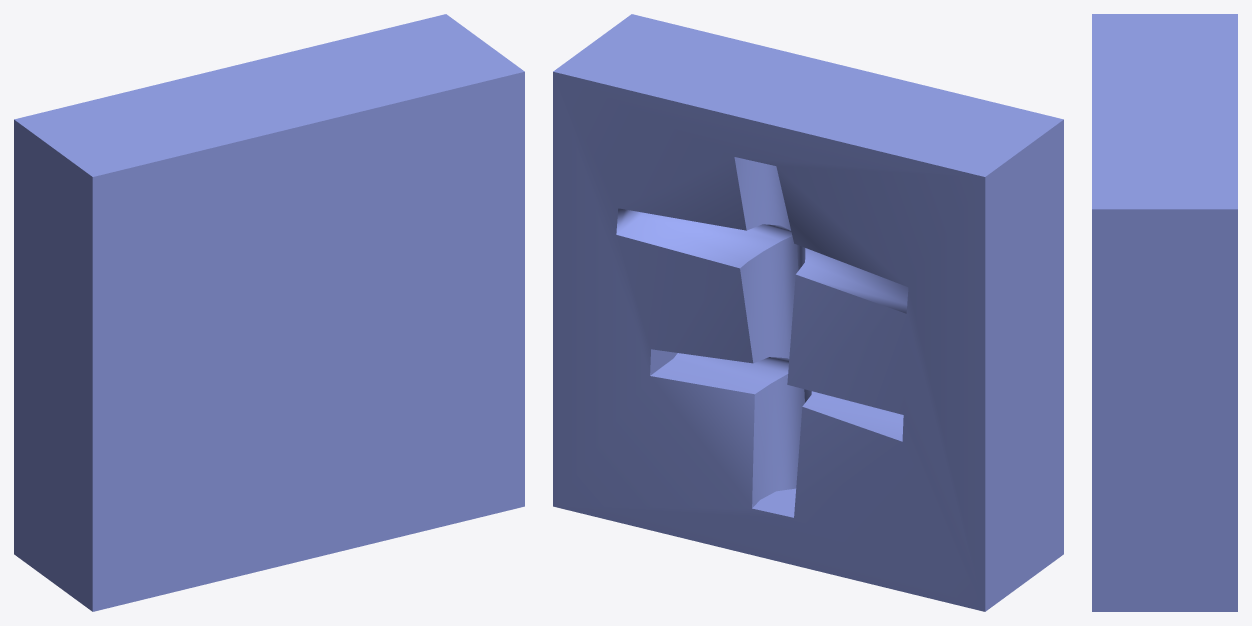
Rendered from FYP_TempleTrapCorridor_CodeBTN7.FBX.
3 renders of one model, left to right at view 1: azimuth 30°, elevation 25°; view 2: azimuth 150°, elevation 25°; view 3: azimuth 270°, elevation 25°, orthographic. The views are drawn at different scales.
Parts seen in each view (by area): view 1: 7thBox; view 2: 7thBox; view 3: 7thBox.
Boxes of the visible parts, <box> form: 7thBox: <box>14,14,524,611</box>; 7thBox: <box>553,14,1063,611</box>; 7thBox: <box>1092,14,1237,611</box>.
Bounding box in the file's own units: 2.6 × 2.5 × 0.8211.
